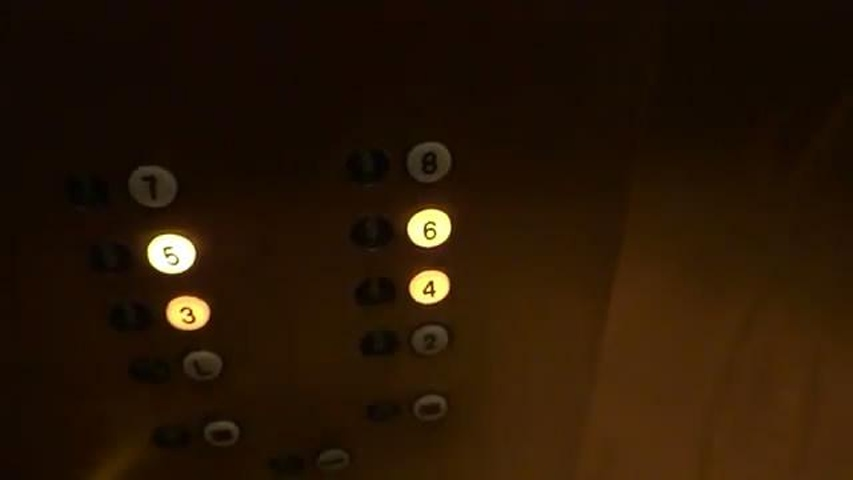2: (407, 322, 453, 360)
3: (159, 294, 214, 334)
4: (405, 268, 451, 308)
5: (144, 230, 198, 278)
6: (405, 206, 455, 249)
7: (122, 162, 179, 211)
8: (402, 137, 454, 186)
L: (175, 347, 230, 384)
blur: (199, 417, 240, 452), (409, 390, 449, 425), (312, 443, 352, 478)
